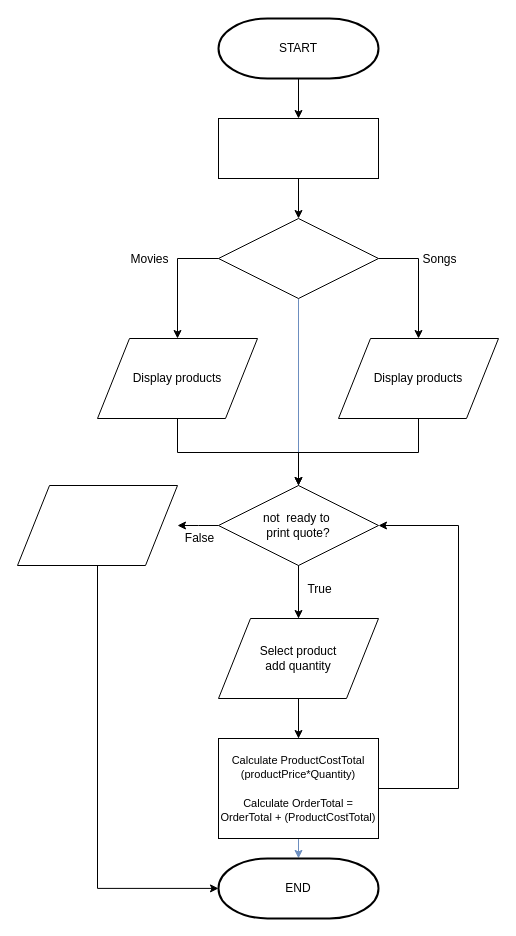
This 516x936 diagram has some shape labels left out. The shapes that lost their labels are listed below. From the top down, each one's centre as x and y in pixels, then its label:
(x=298, y=148): Initalise variables
(x=298, y=258): Select Songs or movies?
(x=97, y=525): Print only units that are checked
